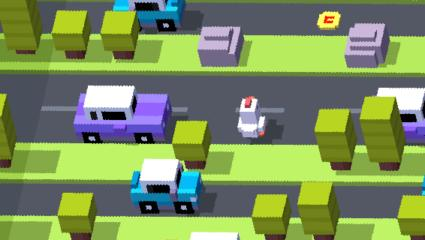hen: (235, 96, 266, 138)
obstacle: (74, 85, 167, 144), (359, 98, 406, 168), (129, 159, 176, 214), (112, 0, 187, 31), (316, 108, 353, 170), (298, 182, 338, 236), (0, 0, 40, 53), (347, 24, 393, 68), (199, 27, 245, 67), (56, 192, 94, 239), (173, 121, 210, 169), (52, 10, 88, 58), (251, 194, 286, 238), (100, 10, 135, 53), (397, 194, 425, 238), (0, 97, 17, 167), (178, 167, 203, 212), (189, 232, 240, 240), (312, 235, 335, 240)
